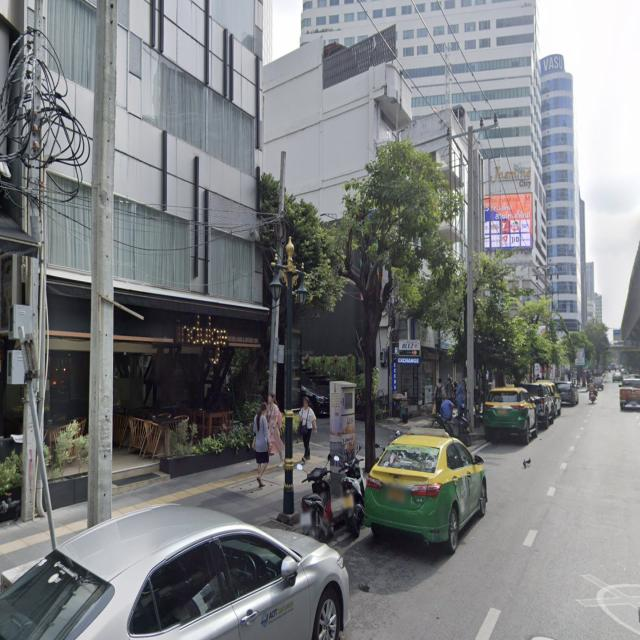tree: (249, 138, 450, 477), (407, 252, 508, 389), (479, 290, 554, 387), (559, 311, 616, 390)
